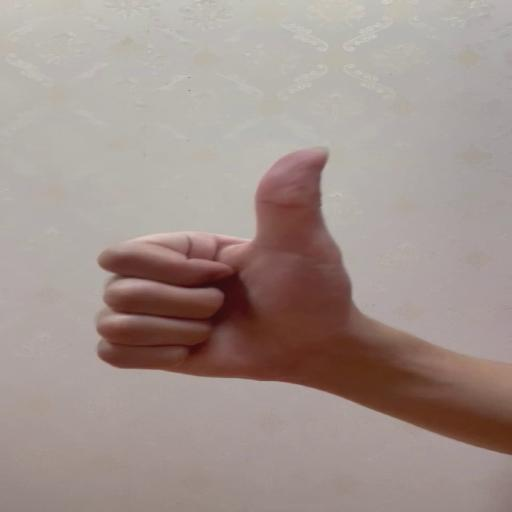thumbs_up: (92, 143, 348, 379)
